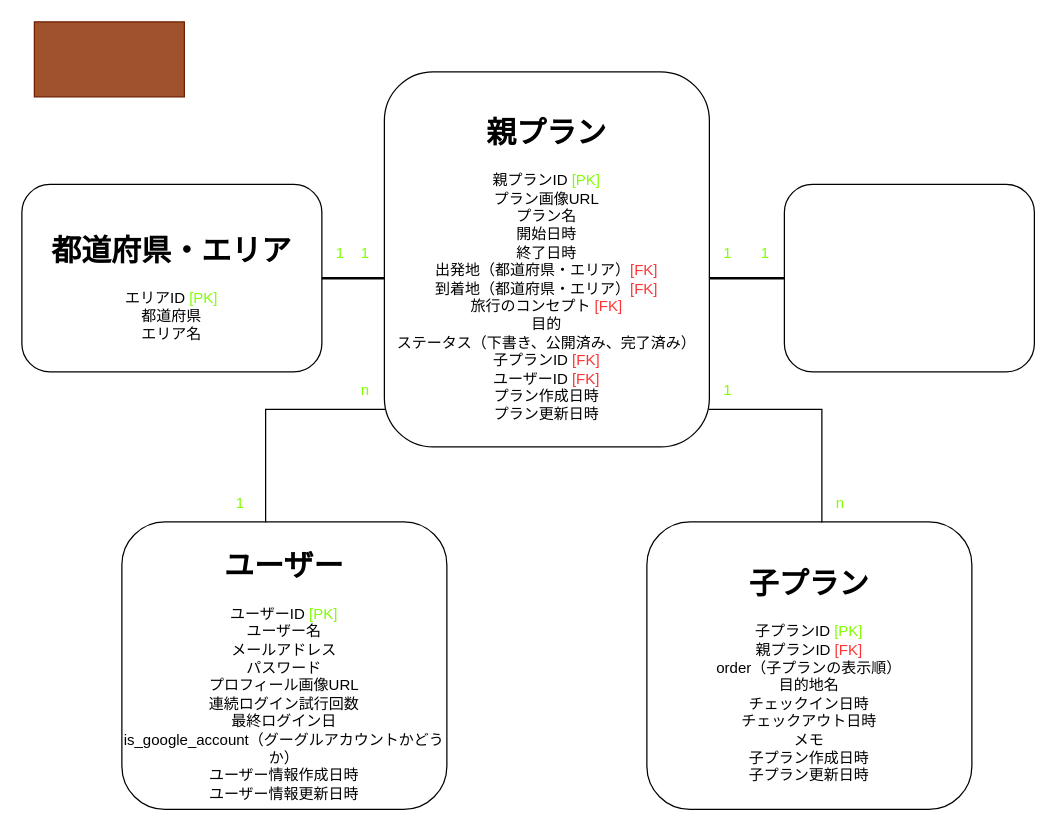
Image size: 1056x831. Some labels were removed from this diagram. Each missing label, with the centre of its shape:
ER図: the point at 108,59
旅行のコンセプト コンセプトID [PK] コンセプト名 コンセプト作成日時 コンセプト更新日時: the point at 908,277
